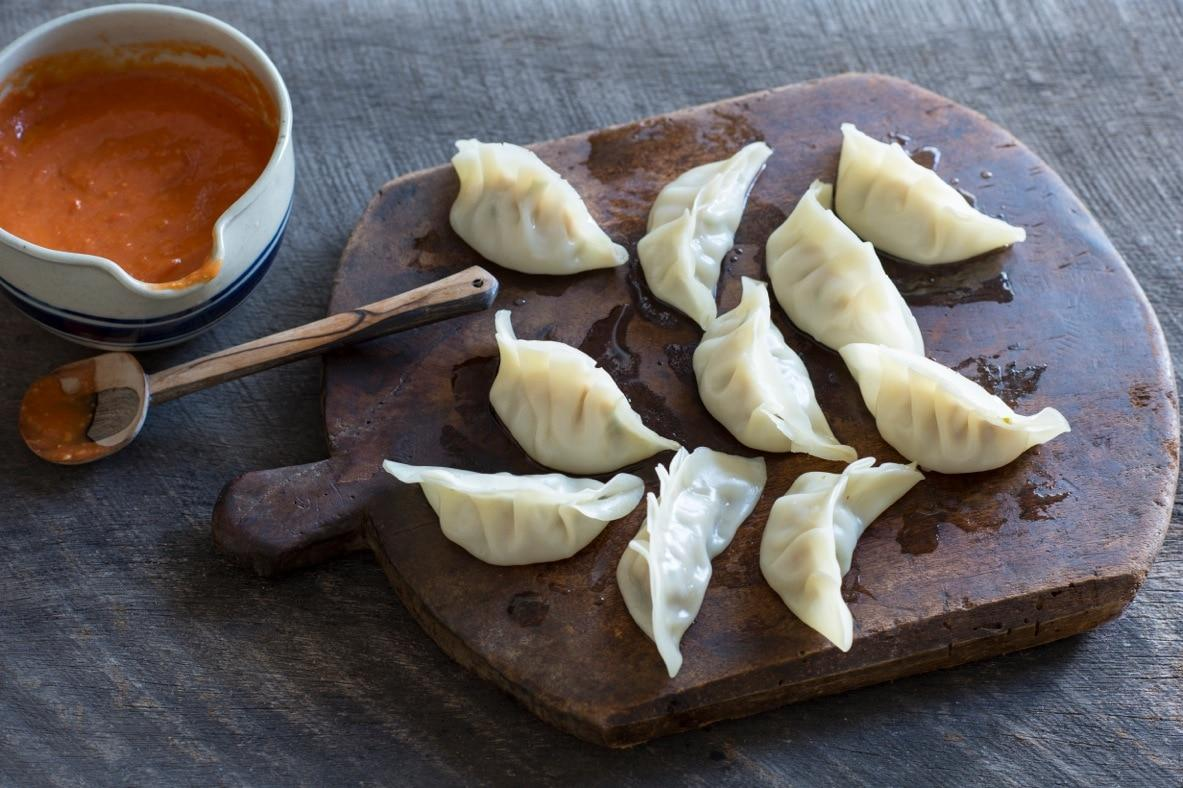momos: (617, 446, 767, 676), (760, 457, 924, 652), (490, 310, 679, 474), (839, 342, 1070, 474), (693, 277, 857, 461), (767, 180, 924, 354), (384, 461, 645, 565), (834, 122, 1026, 263), (638, 141, 772, 330), (451, 139, 628, 275)
